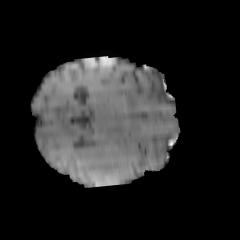glioma: (71, 121, 147, 186)
